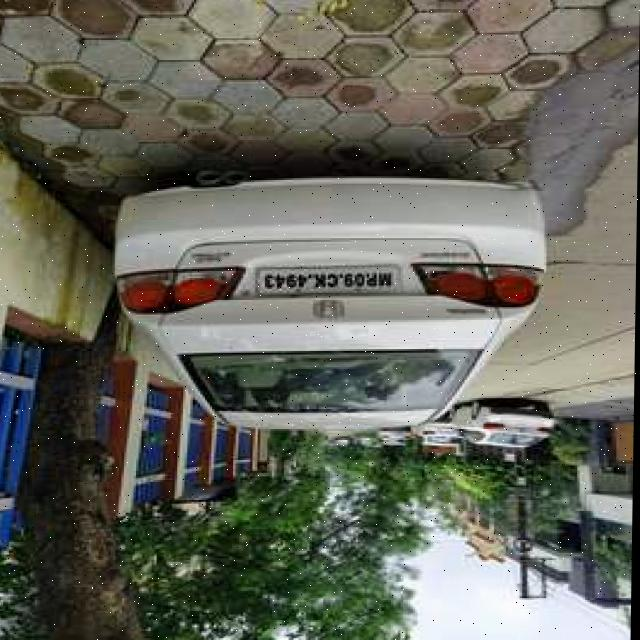plate: (257, 266, 404, 296)
